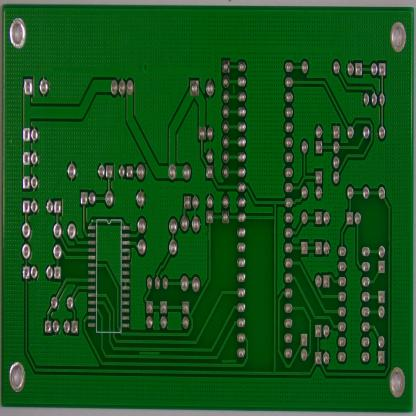spurious_copper: (138, 345, 160, 362), (221, 355, 237, 369), (231, 84, 237, 93)
